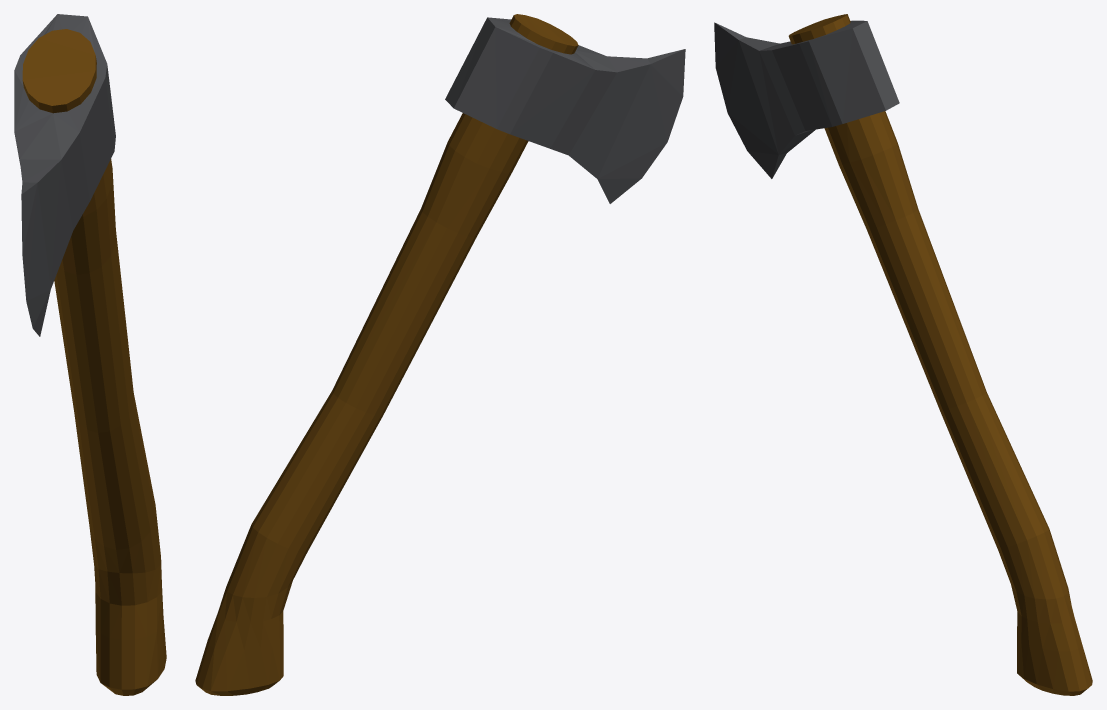
File: low_poly_wooden_axe.glb
3 renders of one model, left to right at view 1: azimuth 30°, elevation 25°; view 2: azimuth 150°, elevation 25°; view 3: azimuth 270°, elevation 25°, orthographic. The views are drawn at different scales.
Visible parts, largest first — view 1: Cylinder; view 2: Cylinder; view 3: Cylinder.
Part boxes in pixels (x1,y1,x2,y2): Cylinder: [14, 14, 166, 695]; Cylinder: [195, 14, 685, 695]; Cylinder: [714, 14, 1092, 695].
Size of the model in its own units: 1.05 by 2.11 by 1.22.
